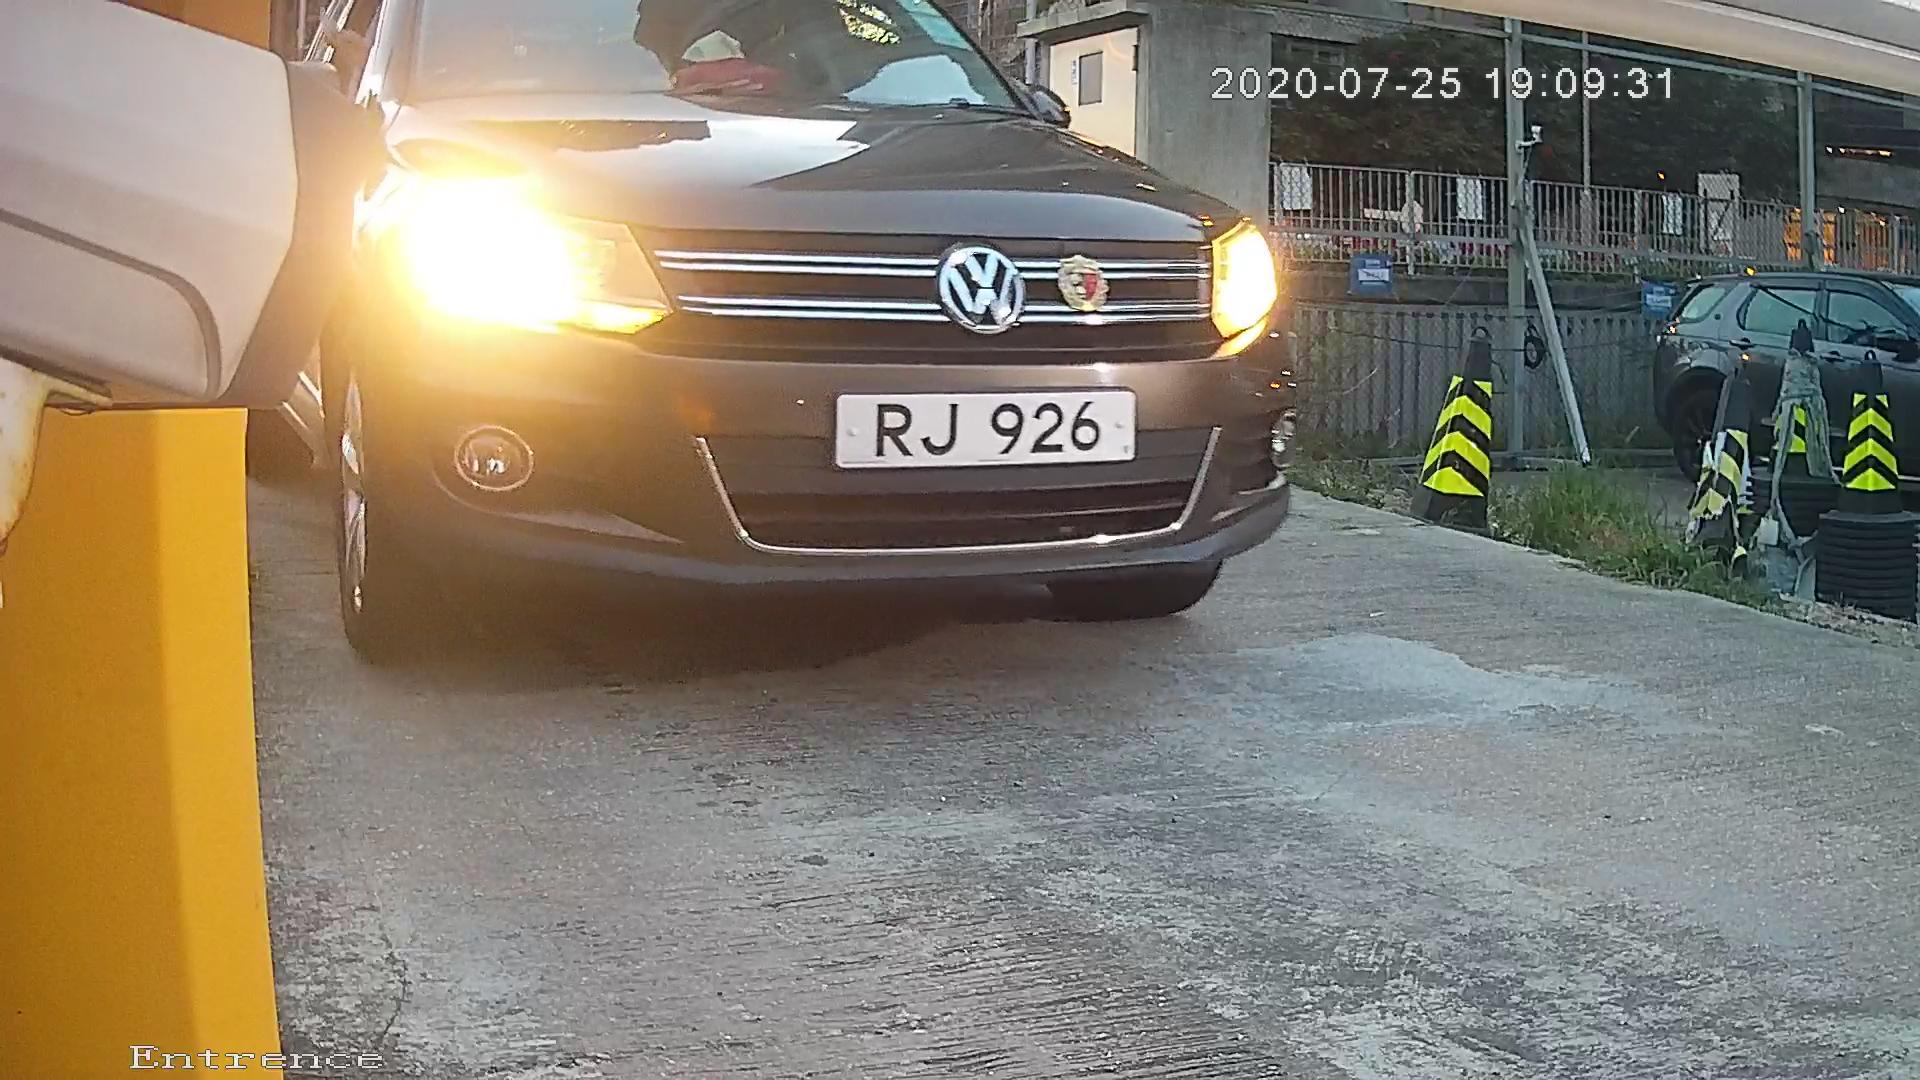License Plate: (789, 377, 1183, 478)
